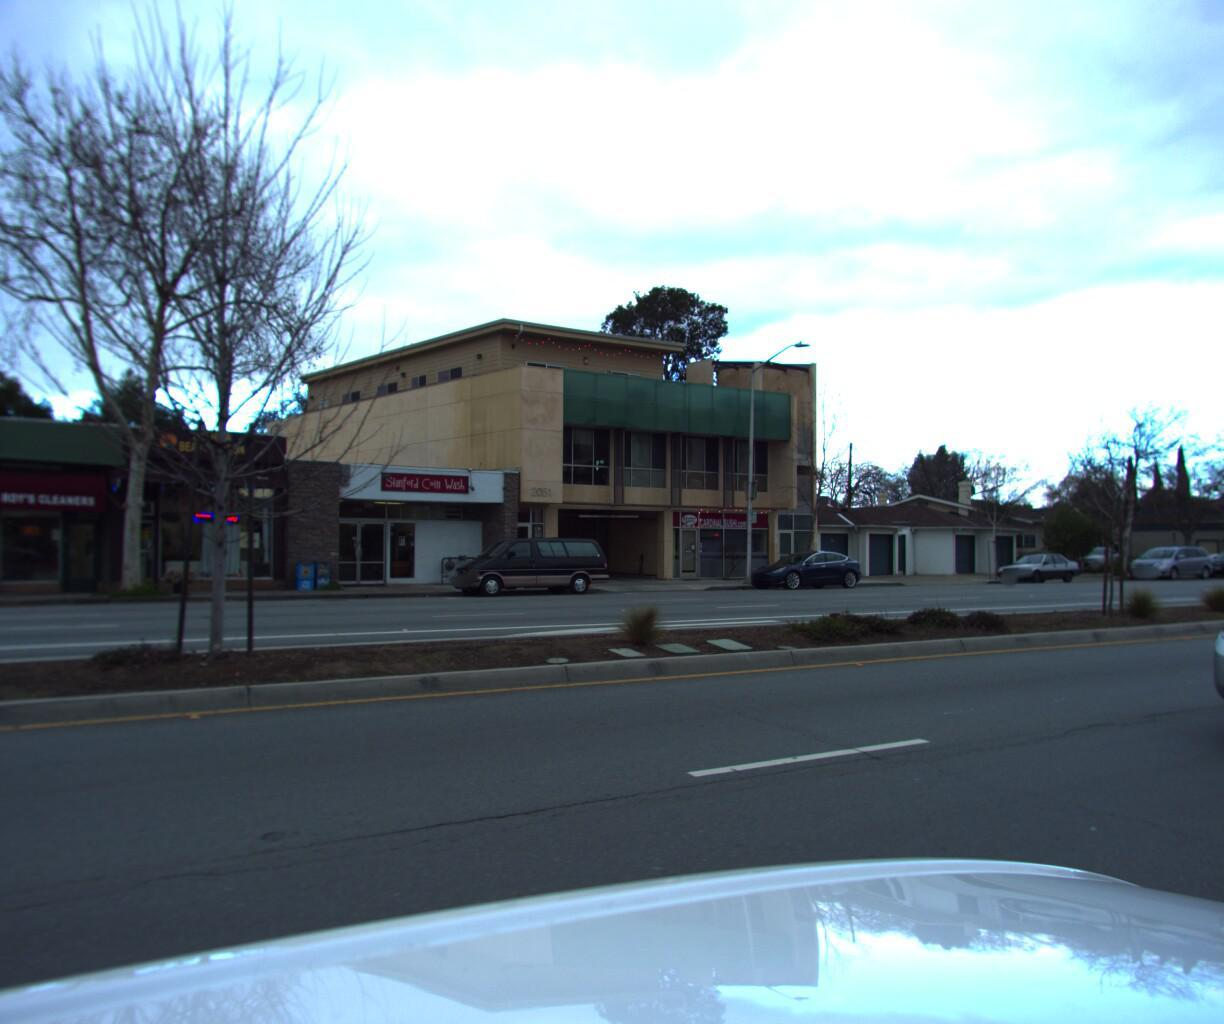car: (1171, 556, 1224, 799), (440, 534, 613, 598), (738, 545, 870, 591), (1116, 541, 1213, 578), (982, 547, 1081, 582), (1191, 534, 1224, 570), (1190, 541, 1224, 575)
